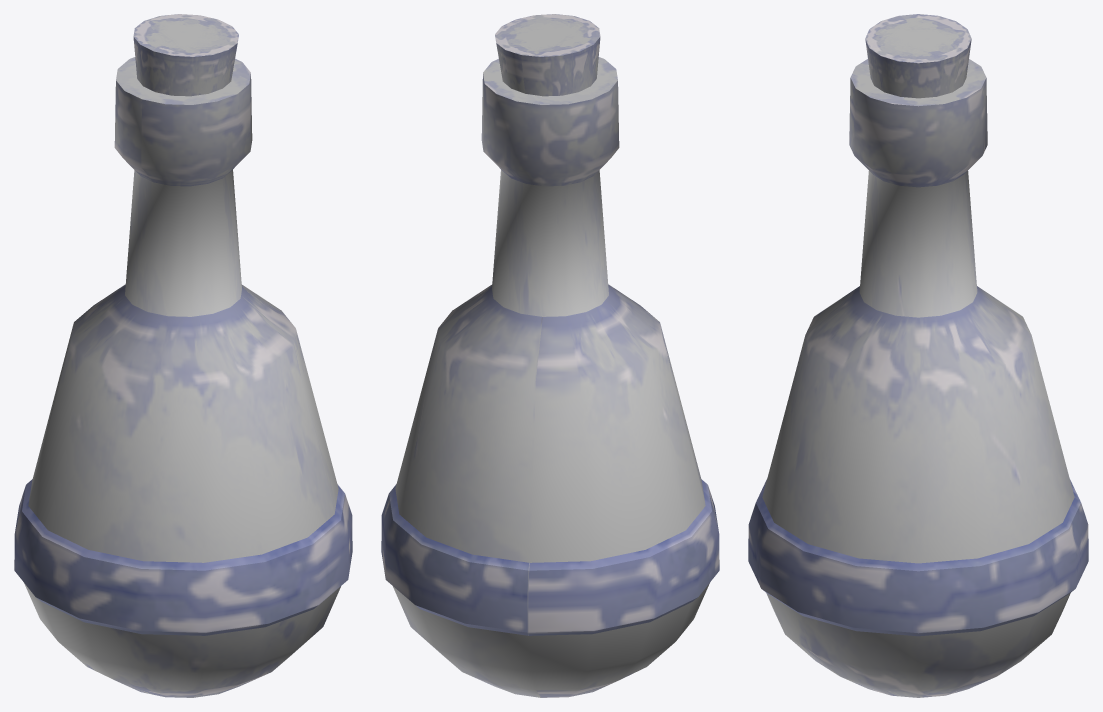
The model's file is Potion_2.gltf.
3 views of the same model, side by side, from view 1: azimuth 30°, elevation 25°; view 2: azimuth 150°, elevation 25°; view 3: azimuth 270°, elevation 25° (orthographic).
Parts seen in each view (by area): view 1: Potion_2; view 2: Potion_2; view 3: Potion_2.
Part boxes in pixels (left/top/right/bottom): Potion_2: left=14, top=14, right=352, bottom=697; Potion_2: left=381, top=14, right=719, bottom=697; Potion_2: left=748, top=14, right=1088, bottom=697.
Bounding box in the file's own units: 0.1274 × 0.2615 × 0.1274.
Materials: 1 (1 with a texture image).
